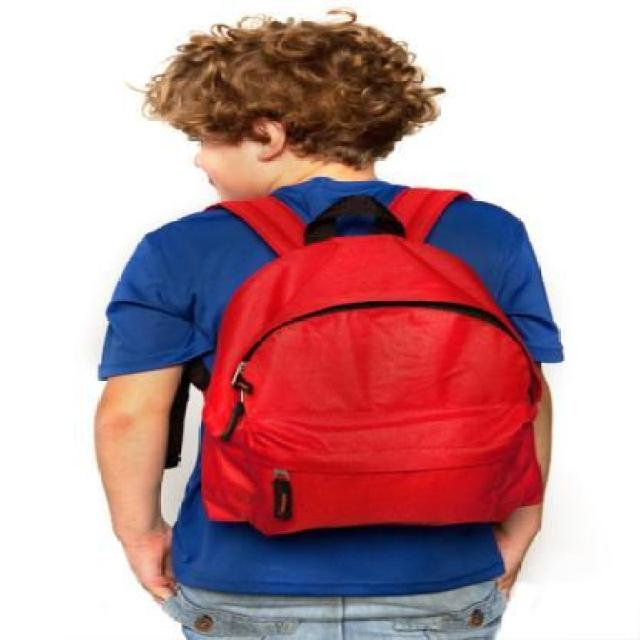backpack: (197, 194, 549, 538)
